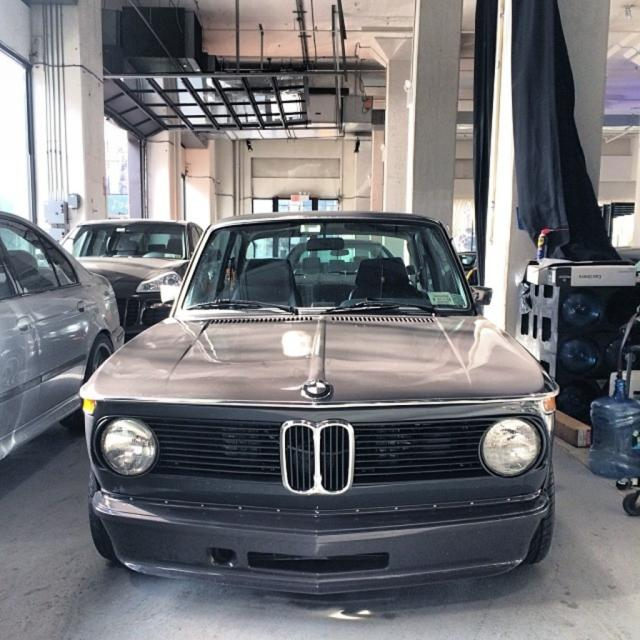car: (68, 207, 553, 600)
